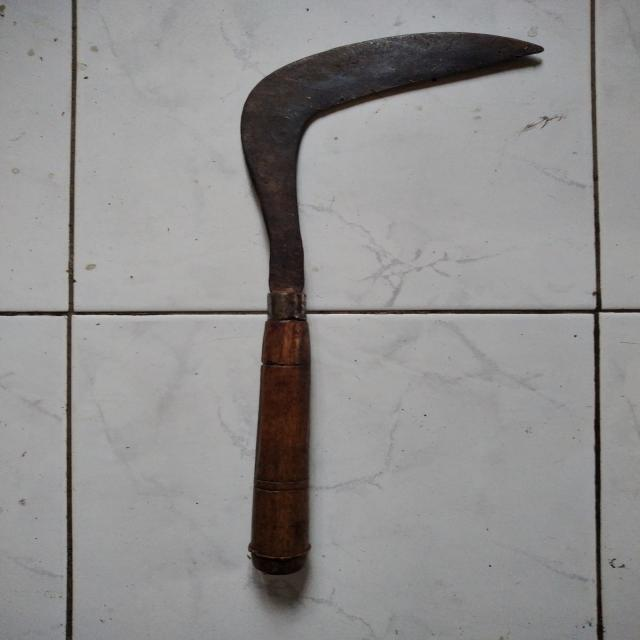Celurit: (243, 31, 553, 576)
